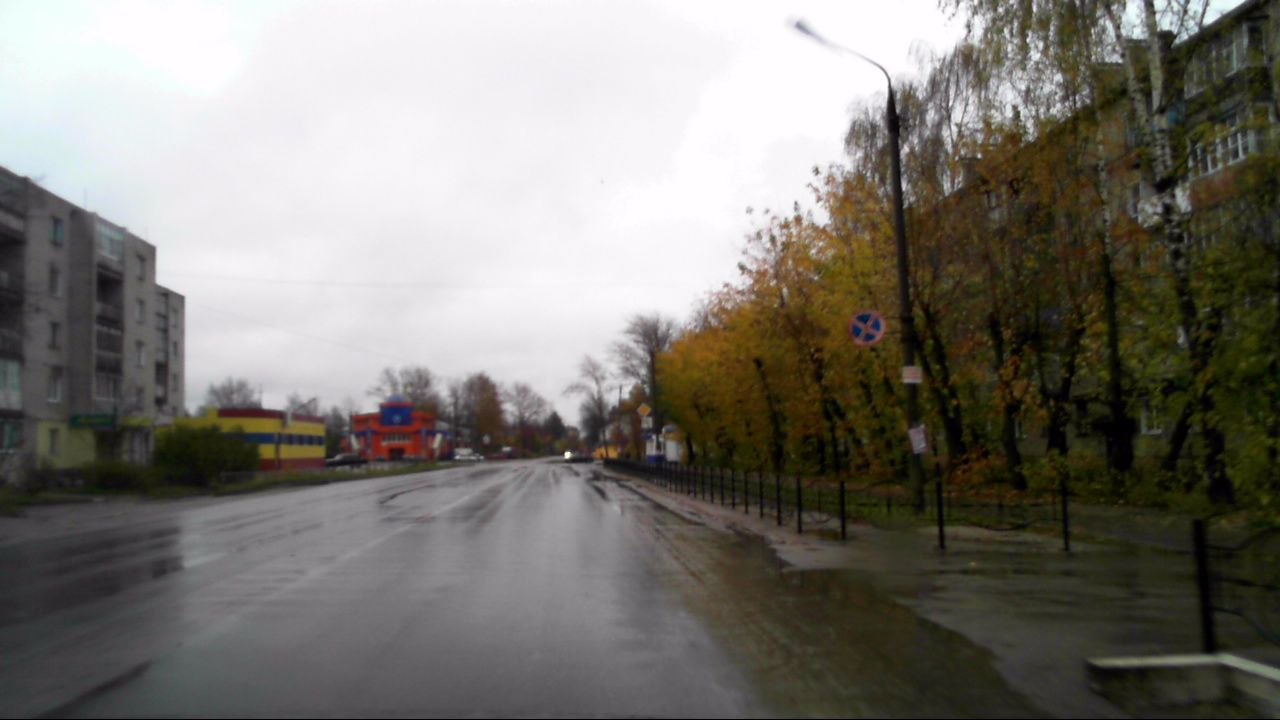No Parking: (846, 307, 886, 346)
